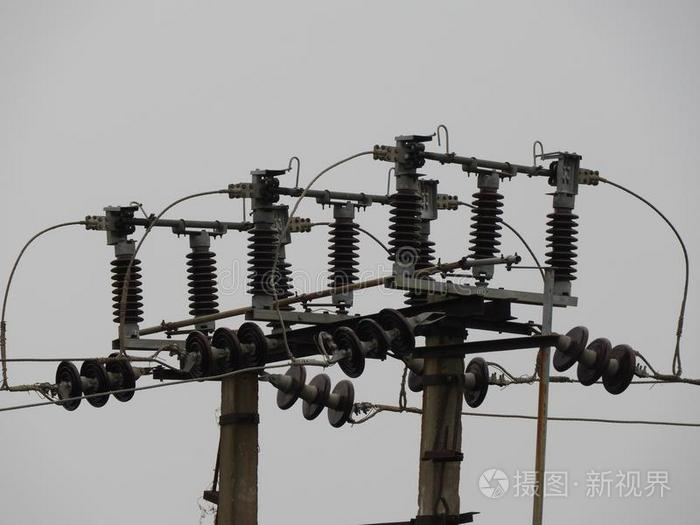insulator: (554, 329, 638, 395), (334, 309, 413, 377), (279, 366, 356, 429), (183, 323, 266, 378), (54, 354, 136, 408), (465, 357, 489, 410)
